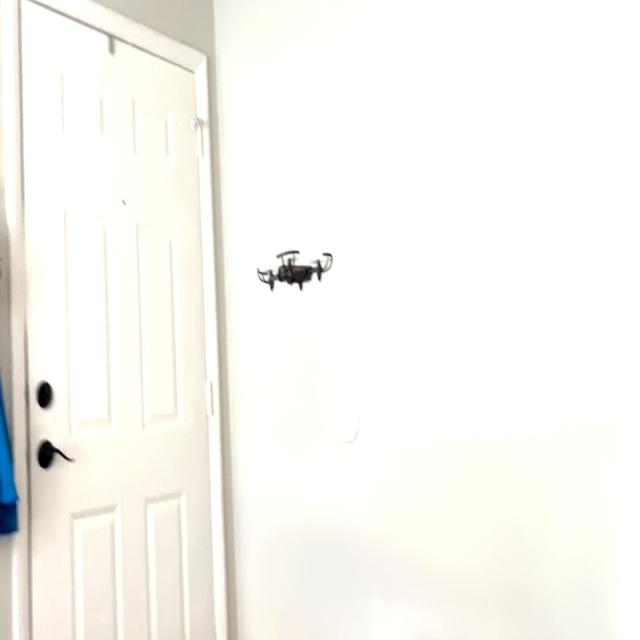drone: (251, 228, 340, 308)
